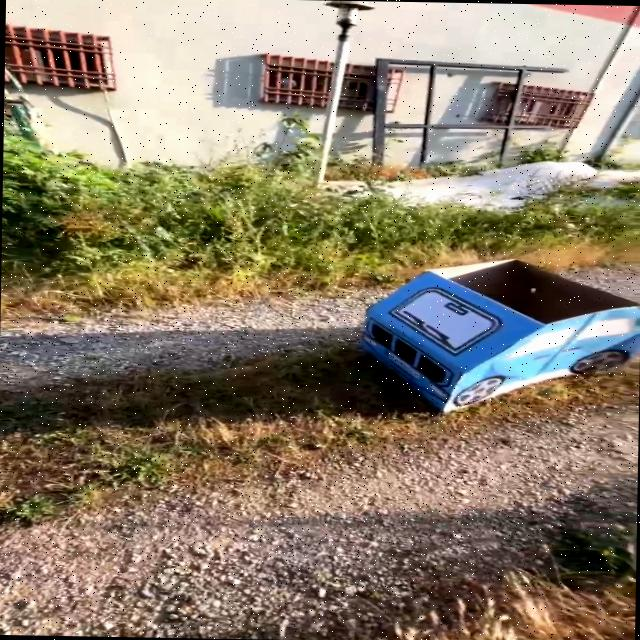blue_car: (325, 246, 640, 416)
